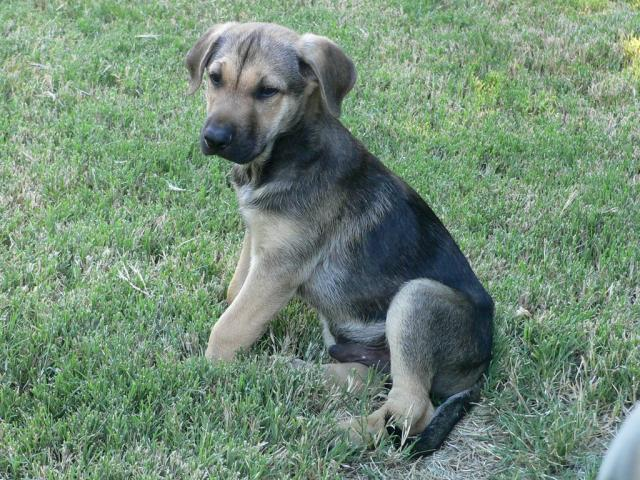Dog: (182, 19, 496, 461)
